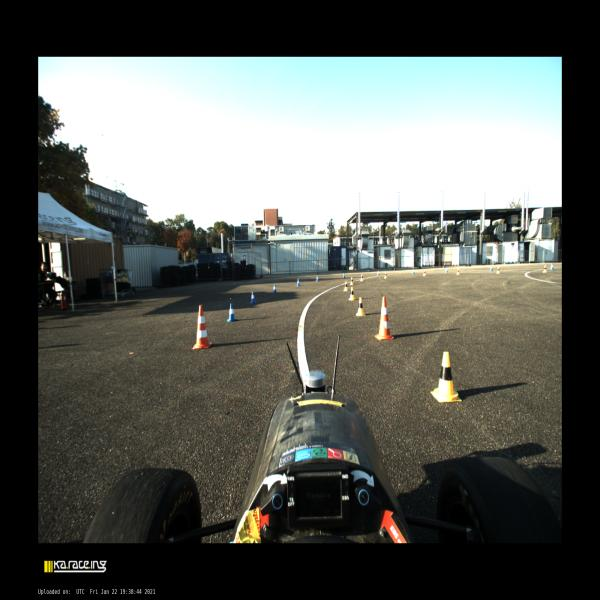blue_cone: (227, 303, 236, 322), (250, 291, 256, 303), (272, 283, 278, 293), (296, 278, 300, 286), (550, 263, 554, 270), (489, 265, 493, 271), (444, 267, 448, 273), (377, 270, 380, 276), (343, 272, 346, 278), (316, 276, 319, 282), (412, 268, 414, 274)
large_orange_cone: (192, 305, 212, 348), (375, 297, 394, 340)
yellow_cone: (431, 352, 462, 402), (356, 297, 366, 316), (348, 287, 355, 300), (343, 281, 348, 291), (496, 266, 500, 274), (360, 274, 364, 281), (422, 269, 426, 276), (456, 268, 460, 275), (543, 265, 547, 272), (350, 276, 353, 285), (384, 272, 387, 279)
